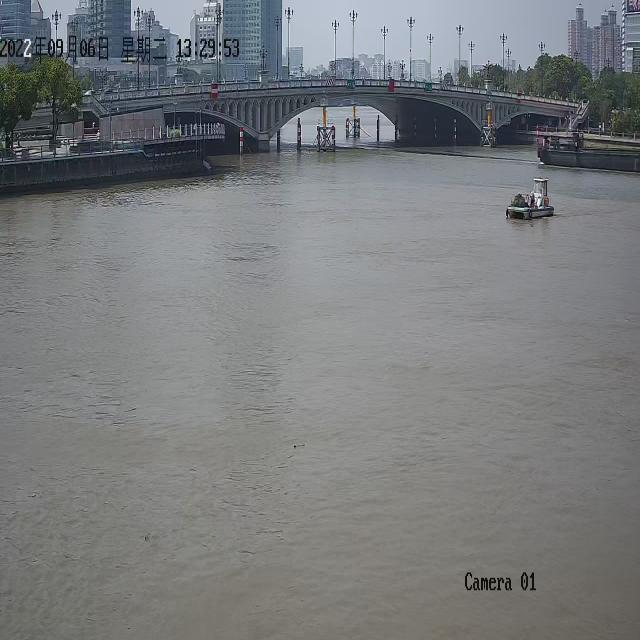ship: (537, 132, 639, 171), (506, 171, 554, 218)
